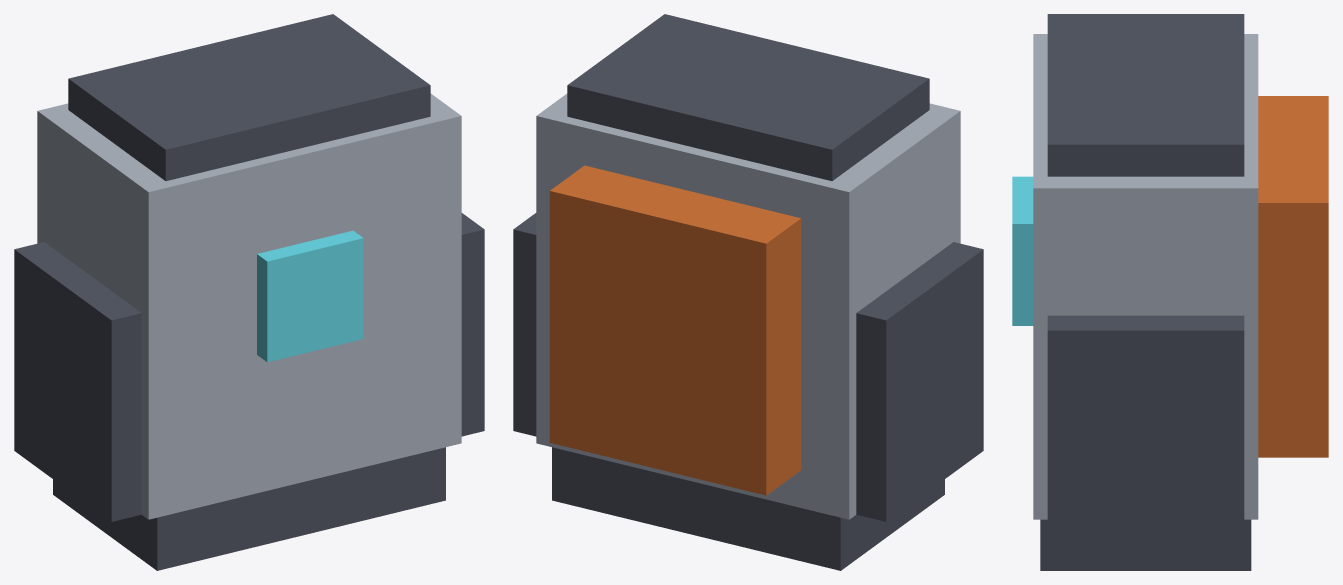
Rendered from SalvagedSteelChestplate.obj.
3 renders of one model, left to right at view 1: azimuth 30°, elevation 25°; view 2: azimuth 150°, elevation 25°; view 3: azimuth 270°, elevation 25°, orthographic.
Visible parts, largest first — view 1: torso; view 2: torso; view 3: torso.
Boxes of the visible parts, left/top/right/bottom form: torso: left=14, top=14, right=484, bottom=570; torso: left=513, top=14, right=983, bottom=570; torso: left=1012, top=14, right=1328, bottom=570.
Bounding box in the file's own units: 0.62 × 0.66 × 0.45.
